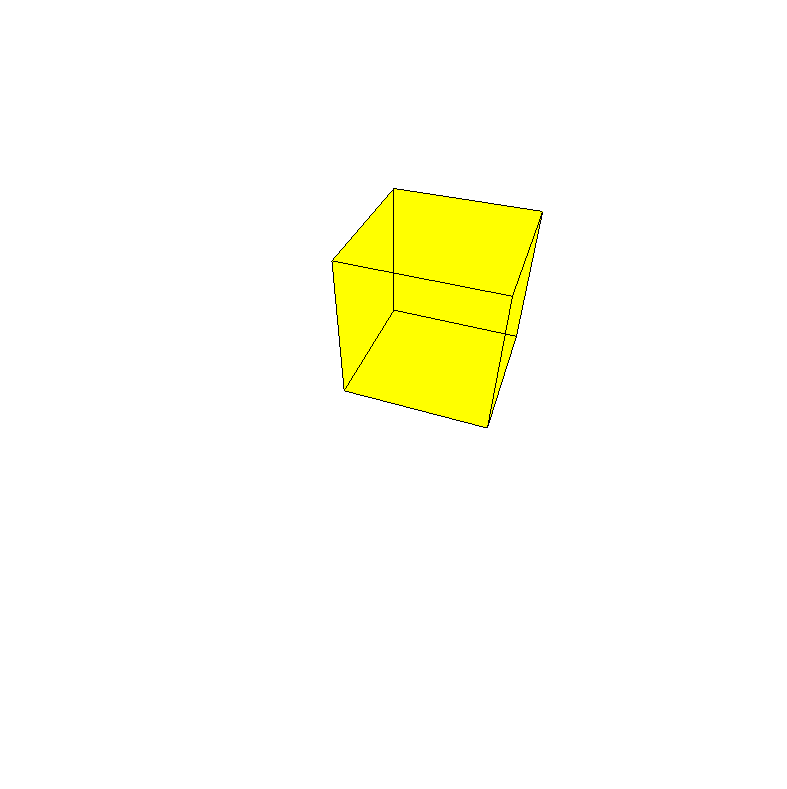NothingYellow: (140, 156, 544, 433)
